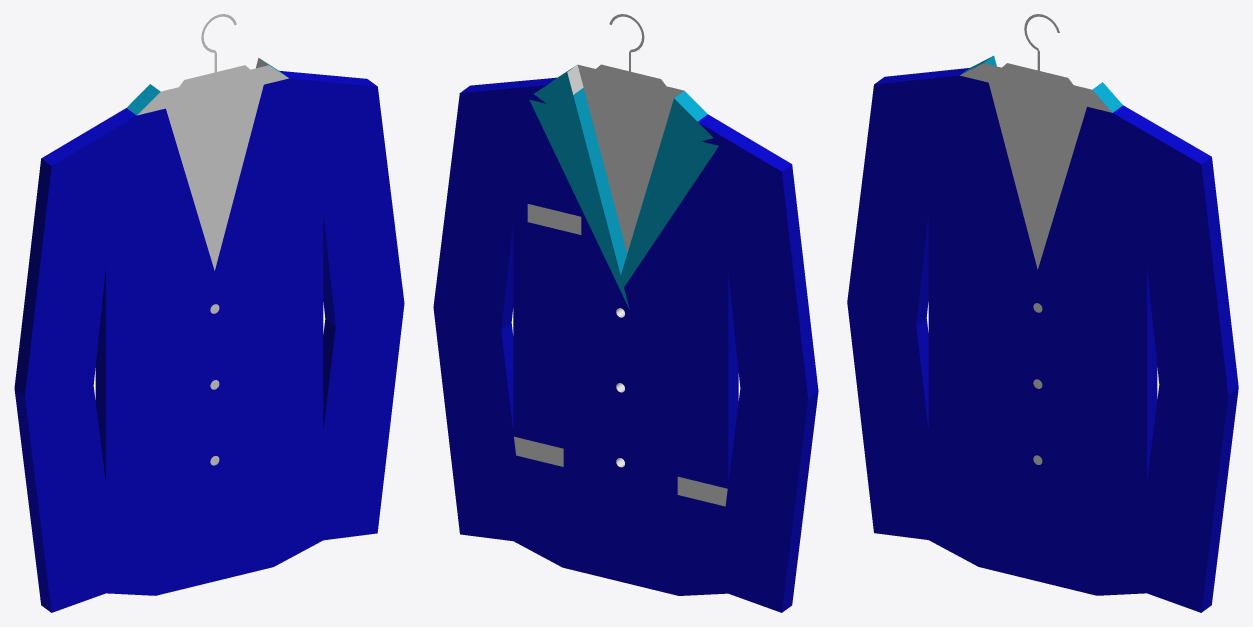
The model's file is jacket-blue.dae.
3 views of the same model, side by side, from view 1: azimuth 30°, elevation 25°; view 2: azimuth 150°, elevation 25°; view 3: azimuth 330°, elevation 25° (orthographic).
Visible parts, largest first — view 1: SketchUp_017, SketchUp_003, SketchUp, SketchUp_001, SketchUp_014; view 2: SketchUp_003, SketchUp_008, SketchUp, SketchUp_001, SketchUp_007, SketchUp_010, SketchUp_011, SketchUp_014; view 3: SketchUp_017, SketchUp, SketchUp_004, SketchUp_003, SketchUp_001, SketchUp_014, SketchUp_008.
Part boxes in pixels (x1,y1,x2,y2): SketchUp_017: (25,78,404,612); SketchUp_003: (14,70,376,612); SketchUp: (166,84,263,270); SketchUp_001: (161,65,268,108); SketchUp_014: (179,14,249,86); SketchUp_003: (433,77,818,612); SketchUp_008: (529,66,718,308); SketchUp: (582,84,671,252); SketchUp_001: (577,64,683,105); SketchUp_007: (527,204,581,234); SketchUp_010: (677,476,727,506); SketchUp_011: (514,436,563,466); SketchUp_014: (596,14,665,85); SketchUp_017: (847,75,1228,612); SketchUp: (989,83,1086,269); SketchUp_004: (1201,157,1238,612); SketchUp_003: (874,68,1211,480); SketchUp_001: (983,63,1091,106); SketchUp_014: (1002,14,1073,84); SketchUp_008: (961,55,1122,112).
Size of the model in its own units: 0.532 by 0.0254 by 0.7578.
